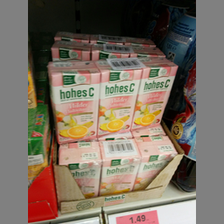juice: (47, 59, 100, 145), (96, 57, 143, 137), (130, 55, 177, 129), (99, 140, 142, 198)
